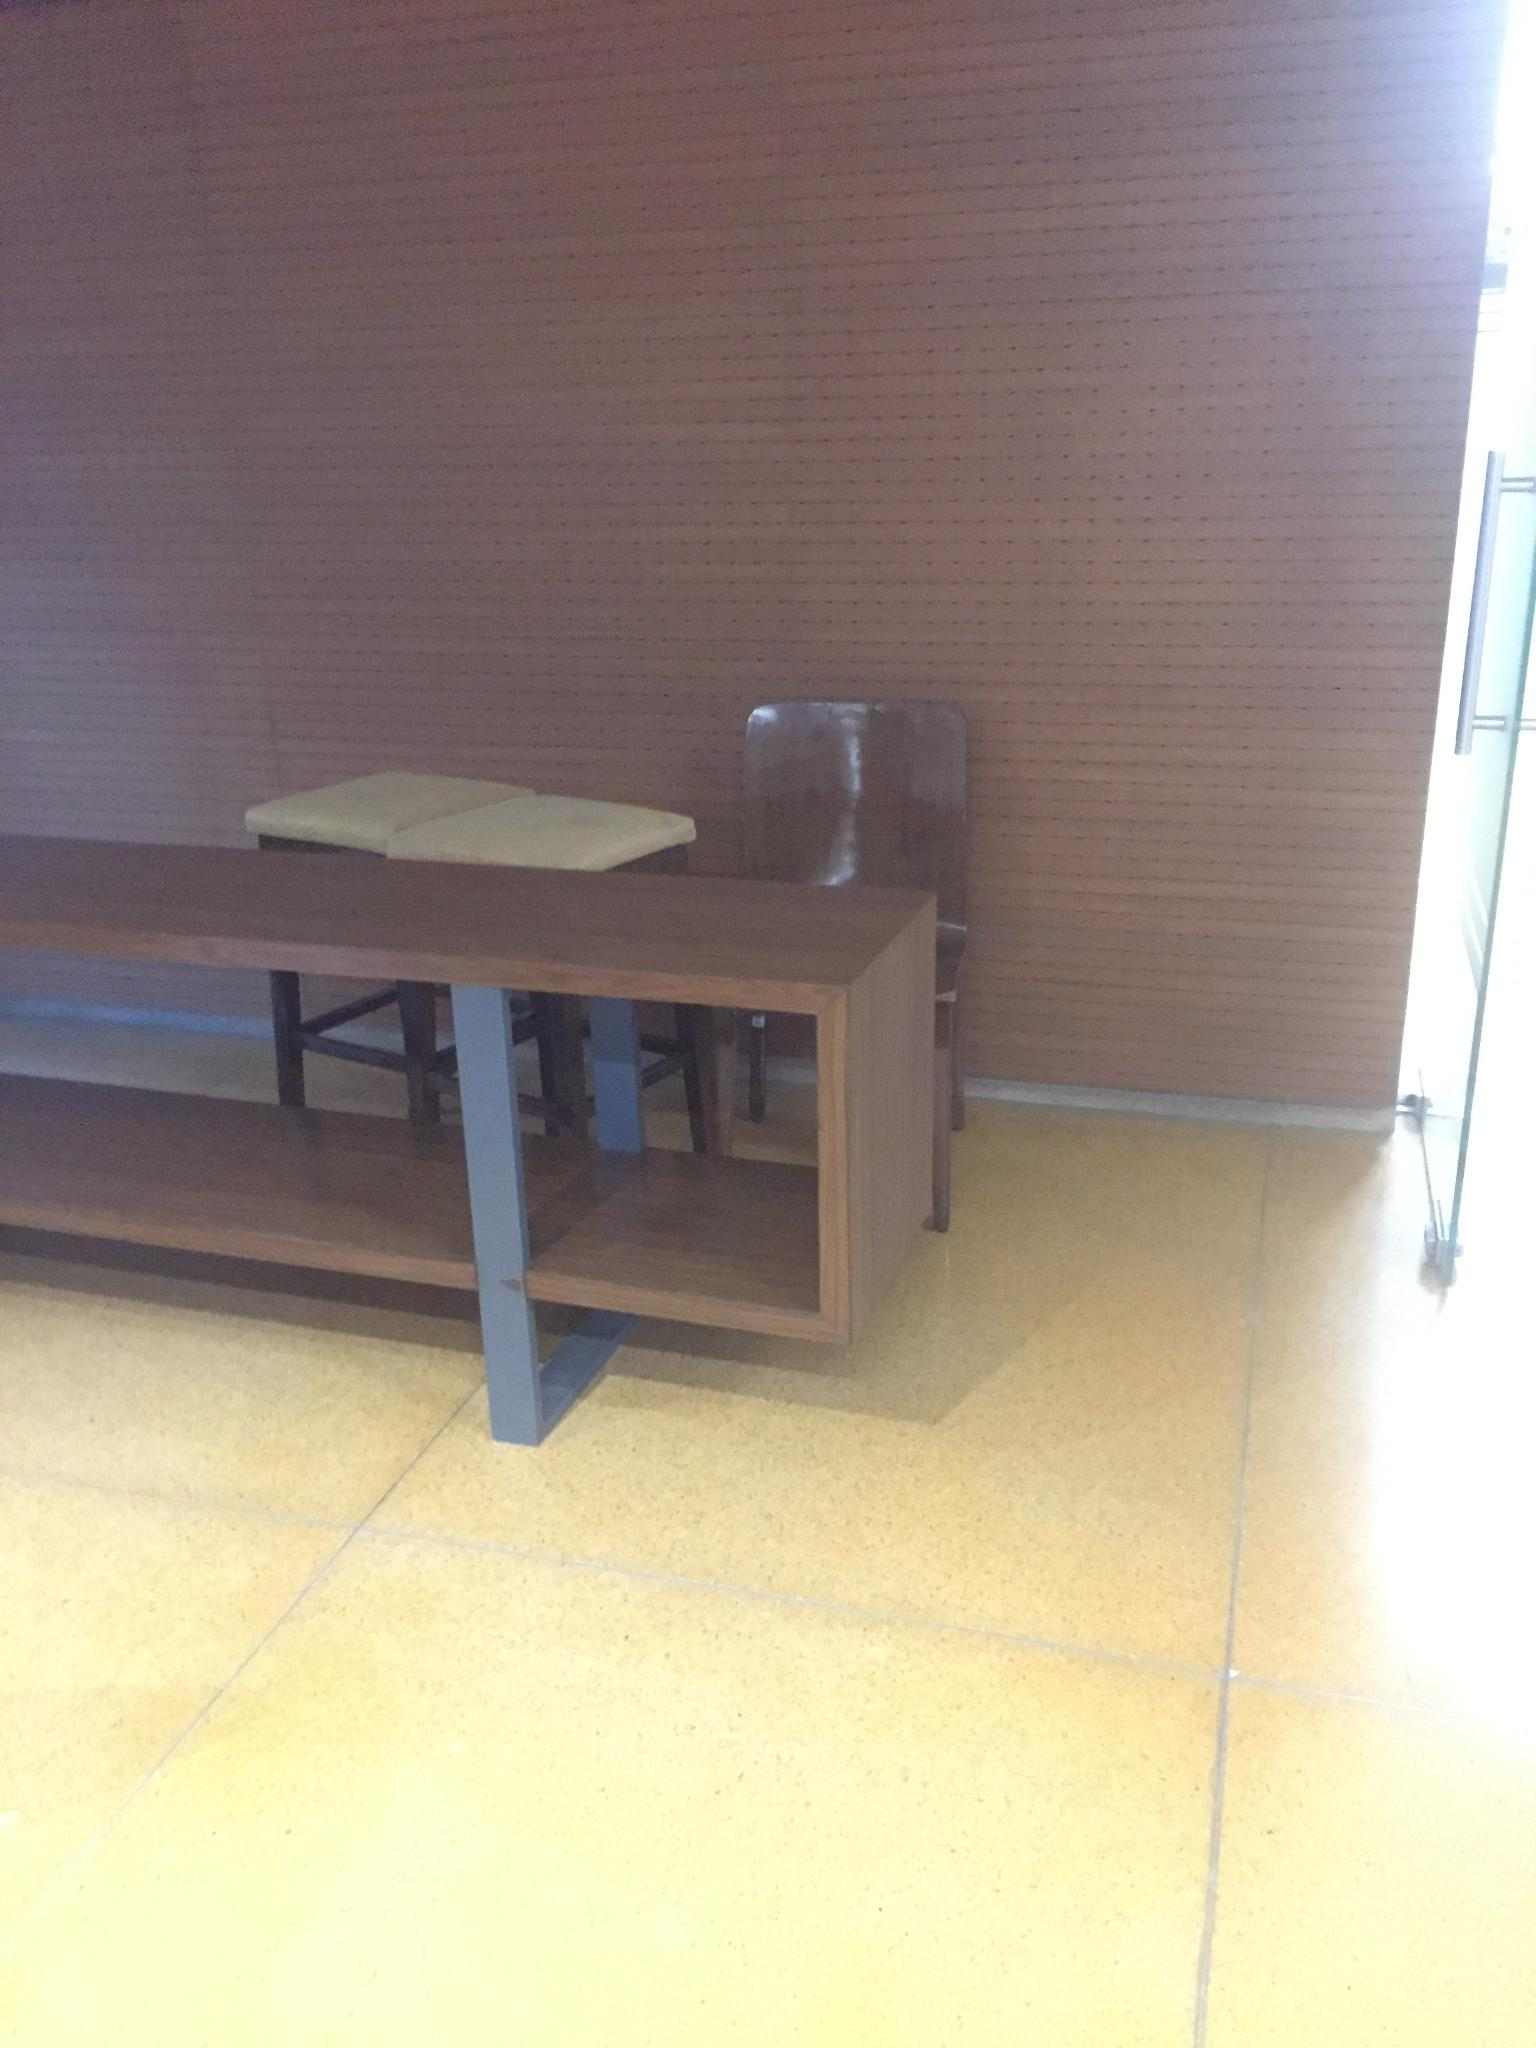chair: (705, 693, 1000, 1238)
